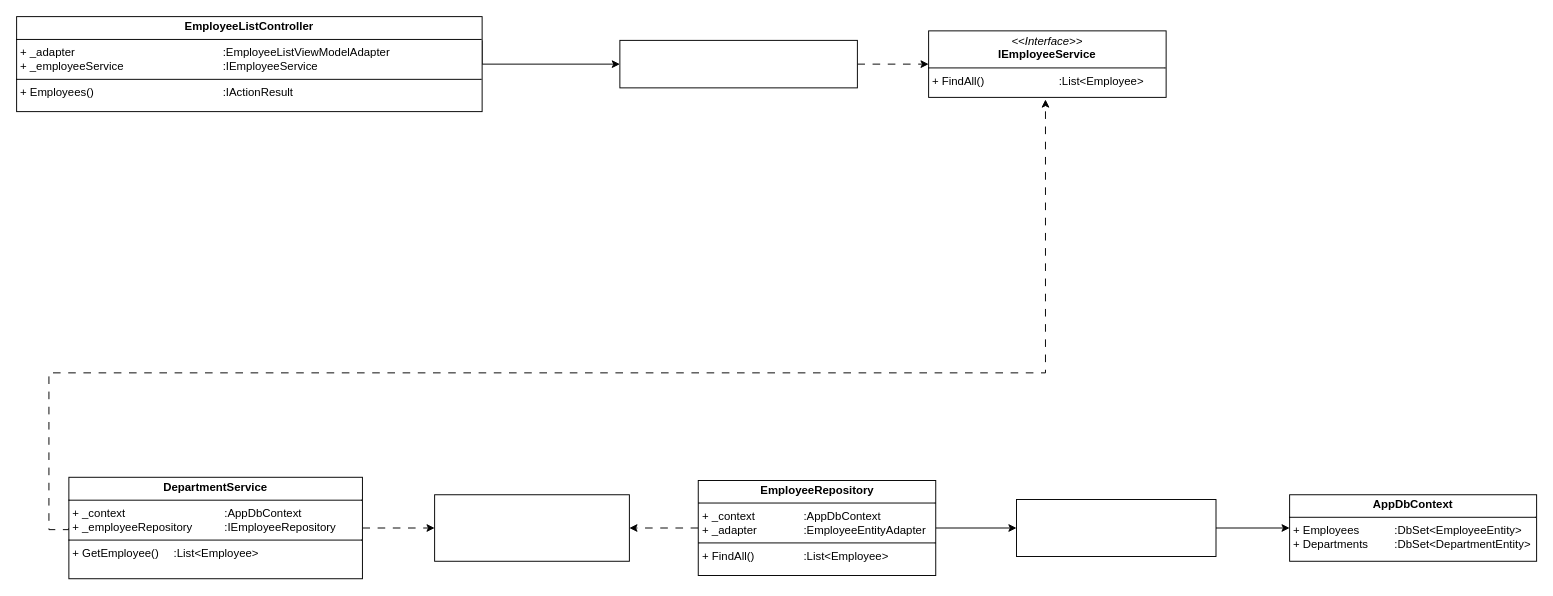
The diagram is 1553 pixels wide and 596 high, and some of its shapes have lost their labels. The shapes that lost their labels are listed below. From the top down, each one's centre as x and y in pixels, then its label:
At point (738, 63): "EmployeeListViewModelAdapter + GetEmployee () : List<Employee>".
At point (531, 527): "<<Interface>> IEmployeeRepository + FindAll() :List<Employee>".
At point (1116, 528): "EmployeeEntityAdapter + ReStore() :EmployeeEntity".
